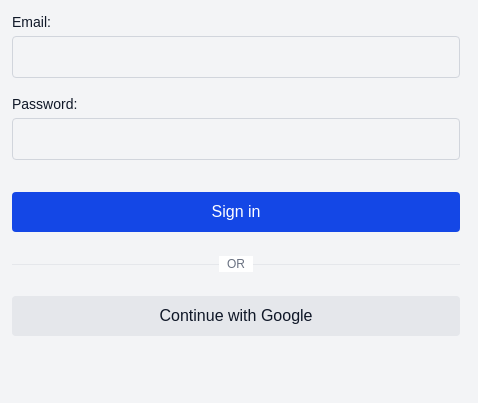
Test: SignInForm › validation › shows an invalid email message when the email format is wrong
Type "not-an-email" into the field labelled "Email:" at (236, 57), box [12,36,460,78]
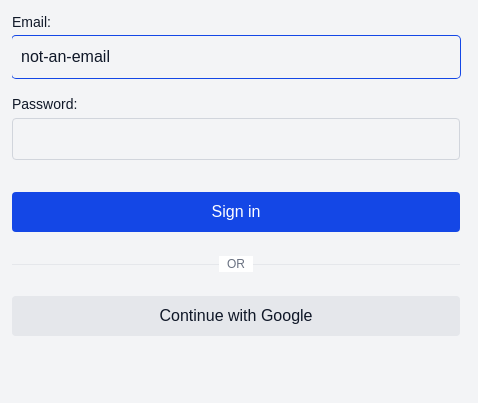
Click the button "Sign in" at (236, 212), box [12,192,460,232]
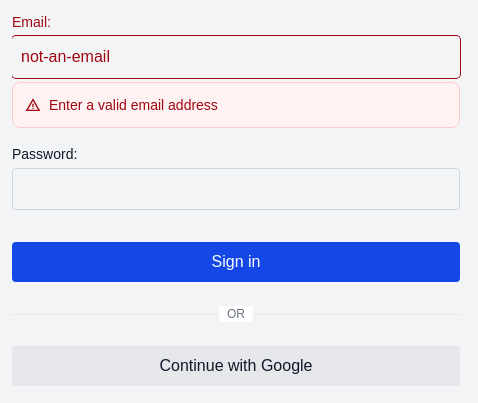
Check: the text "Enter a valid email address" is shown, box [25,97,218,113]
